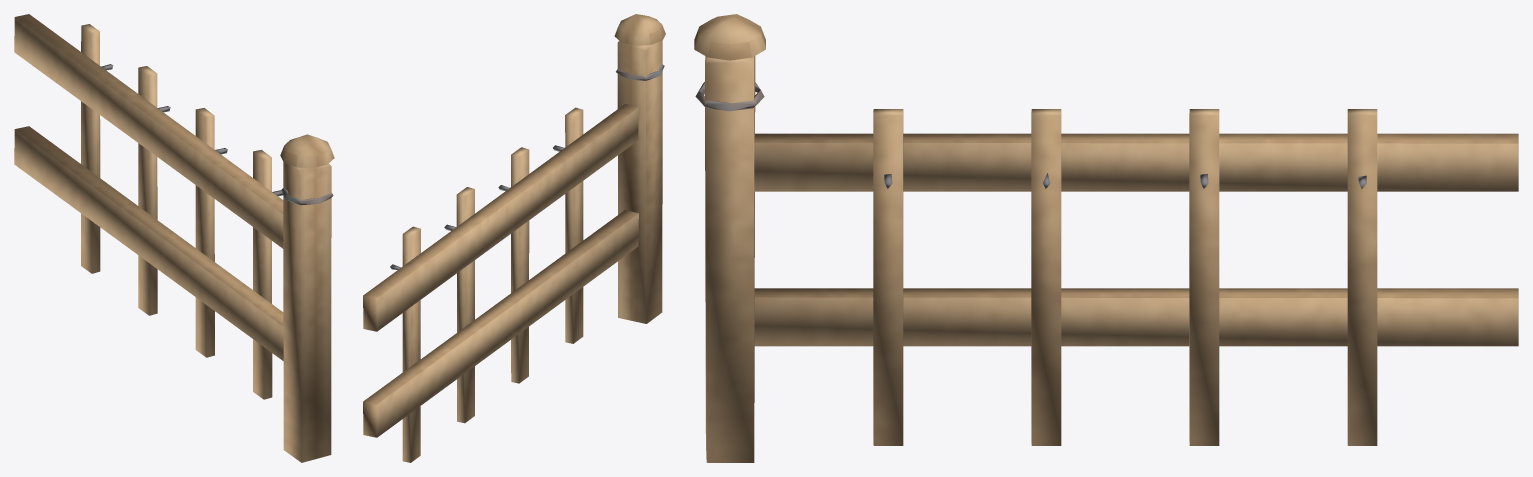
Rendered from fence_bay_lod1.gltf.
3 views of the same model, side by side, from view 1: azimuth 30°, elevation 25°; view 2: azimuth 150°, elevation 25°; view 3: azimuth 270°, elevation 25° (orthographic). The views are drawn at different scales.
Visible parts, largest first — view 1: fence_bay_LOD1; view 2: fence_bay_LOD1; view 3: fence_bay_LOD1.
Part boxes in pixels (<box>): fence_bay_LOD1: <box>14,14,334,462</box>; fence_bay_LOD1: <box>363,14,665,462</box>; fence_bay_LOD1: <box>694,14,1518,462</box>.
Size of the model in its own units: 0.255 by 1.34 by 2.29.
1 material, 1 textured.
